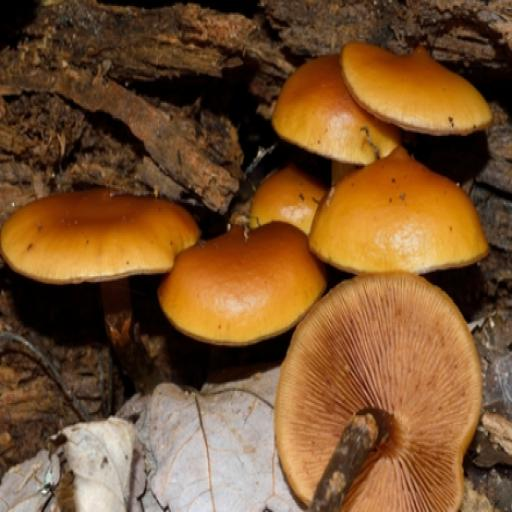Funeral Bell: (0, 40, 493, 512)
